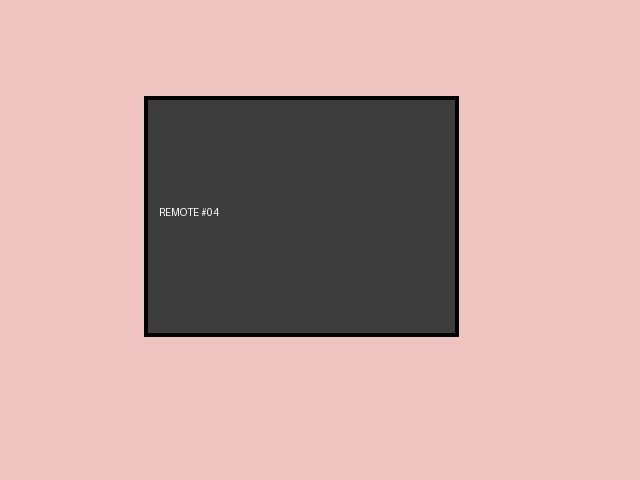remote: (144, 96, 458, 336)
